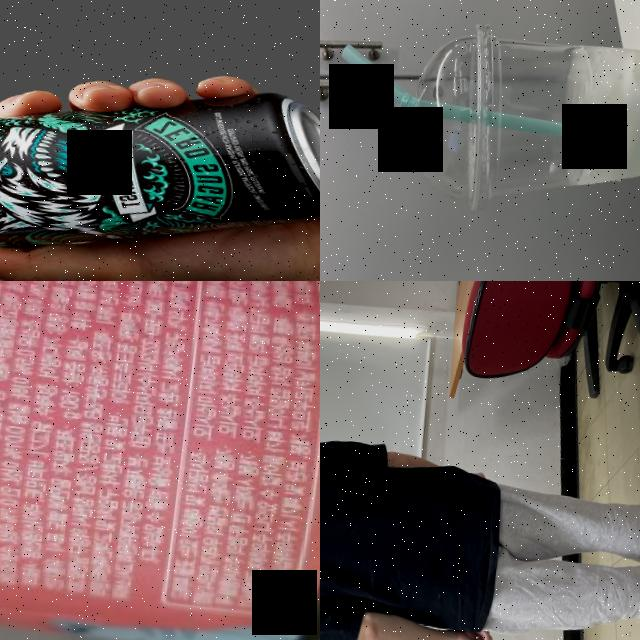can: (0, 29, 320, 281)
cup: (402, 15, 640, 238)
